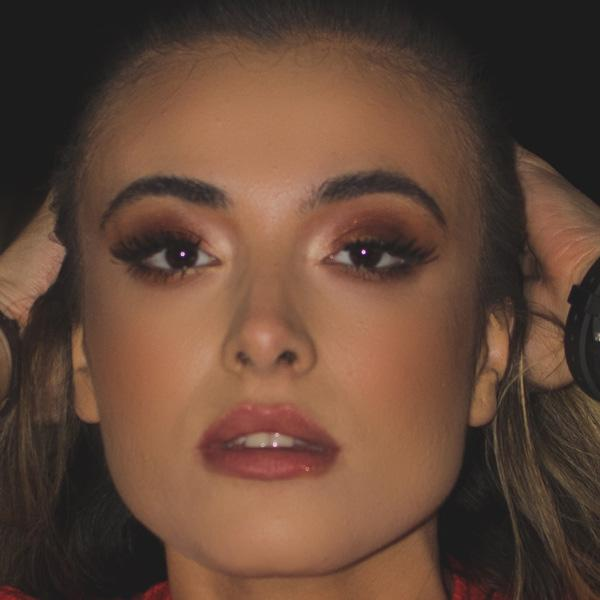Eyes: (306, 211, 441, 288), (109, 220, 234, 294)
